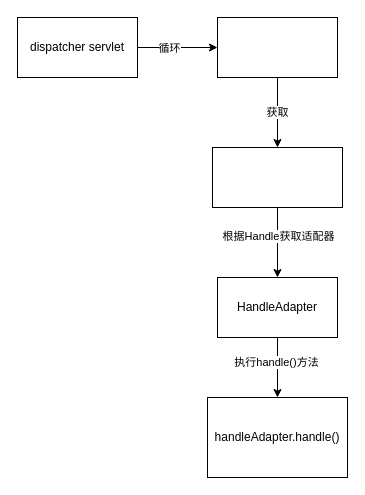
Some shapes in this 365 by 495 pixel diagram are drawn without their labels. The centre of each missing label's shape, as x and y in pixels:
handle mappings: [277,47]
HandleExecutionChain （拦截器数组+handle）: [277,177]
